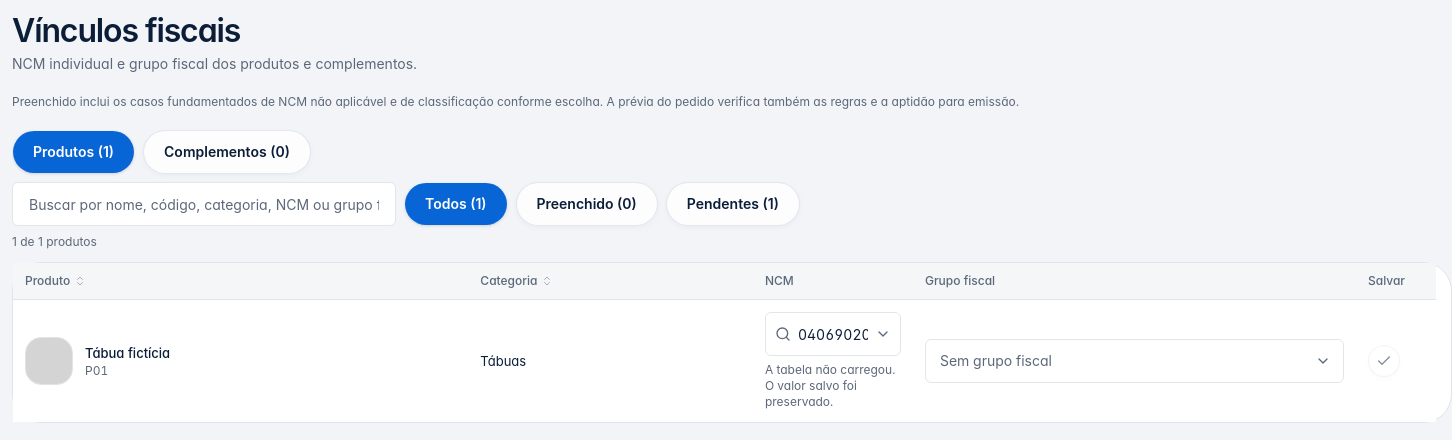
busca por categoria, código e NCM e distingue vazio inicial de filtros
The image size is (1452, 440).
In the field named "Buscar vínculos fiscais": x=204, y=204 [12,182,396,226], type "tabuas"
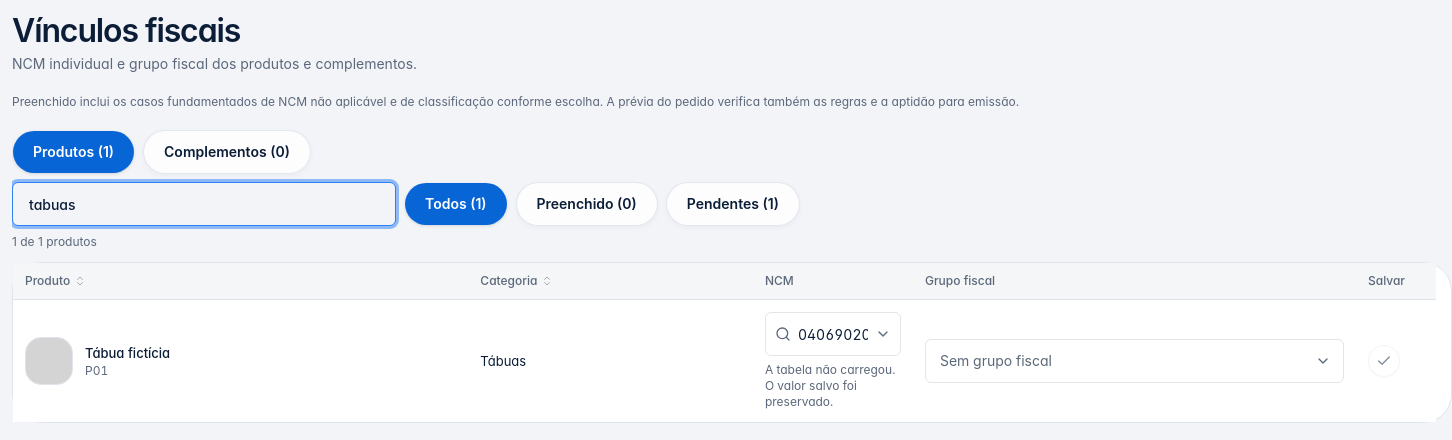
Check: the text "Tábua fictícia" is shown, box [85,344,170,363]
Replace the text in the field named "Buscar vínculos fiscais" with "P01": x=204, y=204 [12,182,396,226]
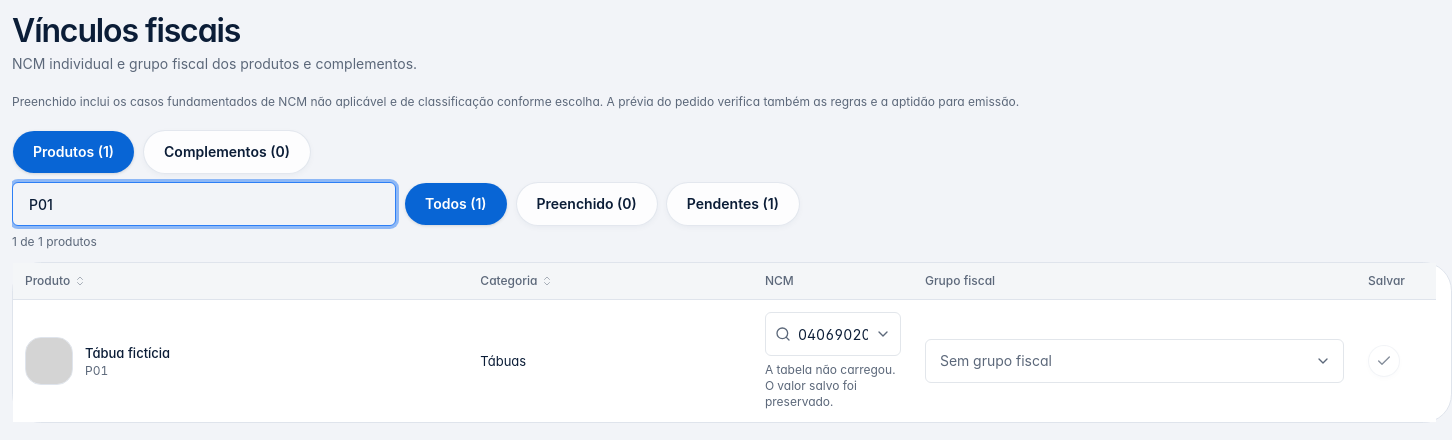
Check: the text "Tábua fictícia" is shown, box [85,344,170,363]
Replace the text in the field named "Buscar vínculos fiscais" with "04069020": x=204, y=204 [12,182,396,226]
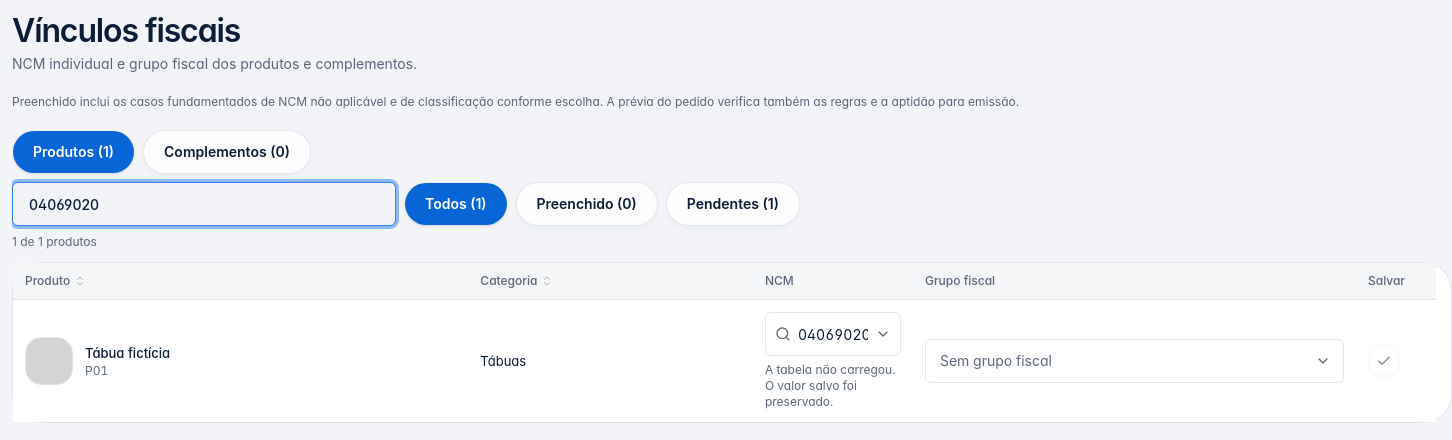
Check: the text "Tábua fictícia" is shown, box [85,344,170,363]
Replace the text in the field named "Buscar vínculos fiscais" with "inexistente": x=204, y=204 [12,182,396,226]
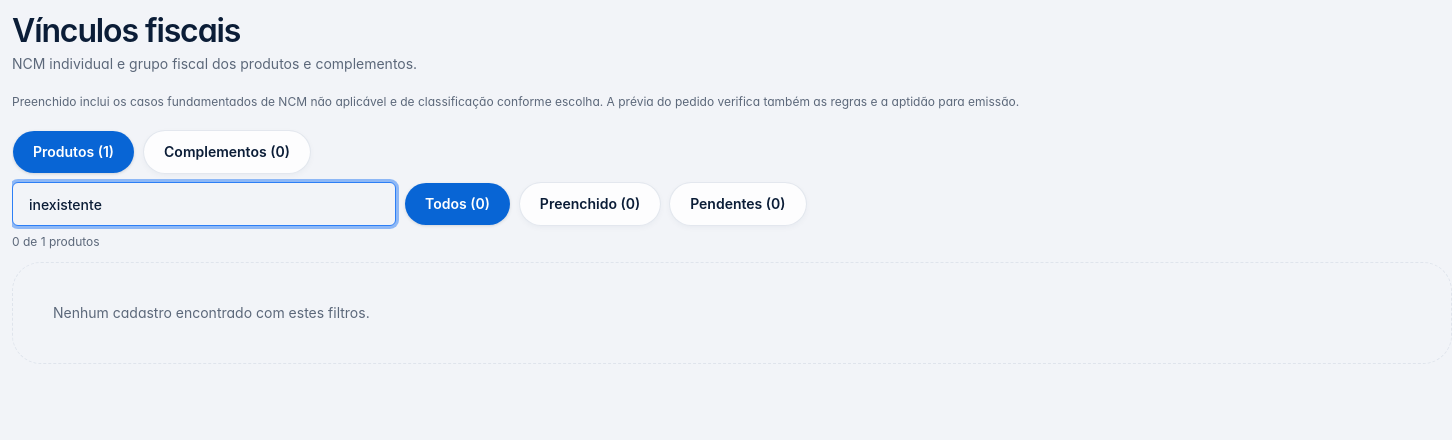
Check: the text "Nenhum cadastro encontrado com estes filtros." is shown, box [12,262,1451,364]
Click the tab "Complementos (0)": x=227, y=152 [143,130,311,174]
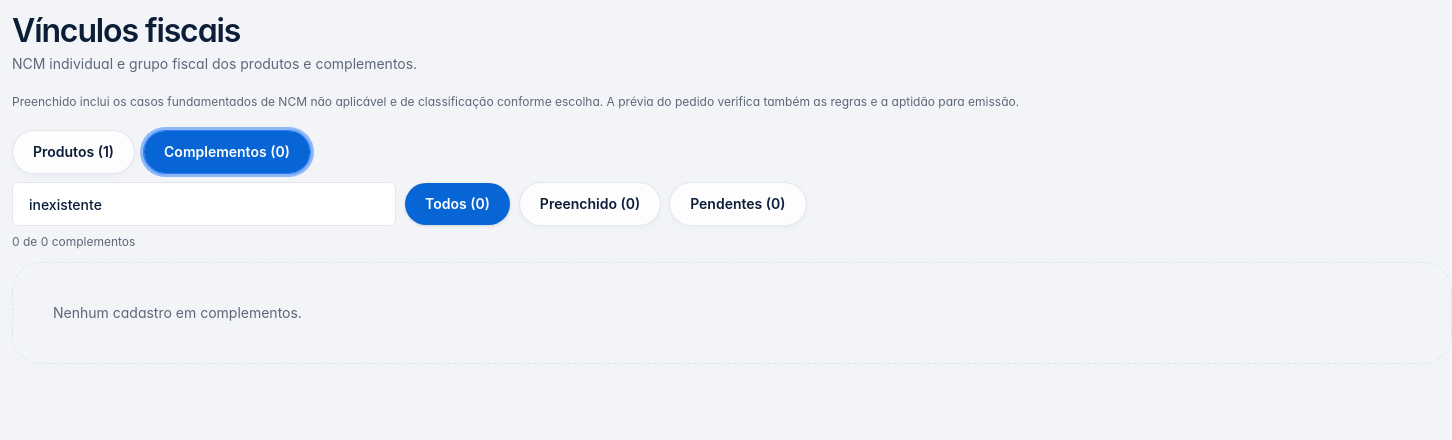
Check: the text "Nenhum cadastro em complementos." is shown, box [12,262,1451,364]
